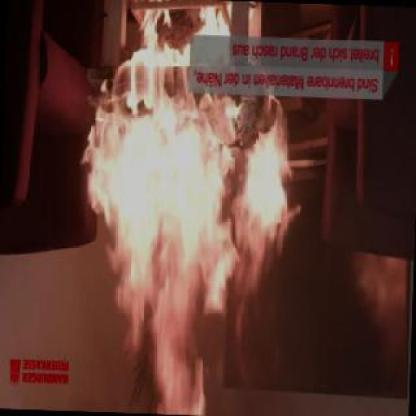Fire: (75, 91, 315, 400)
